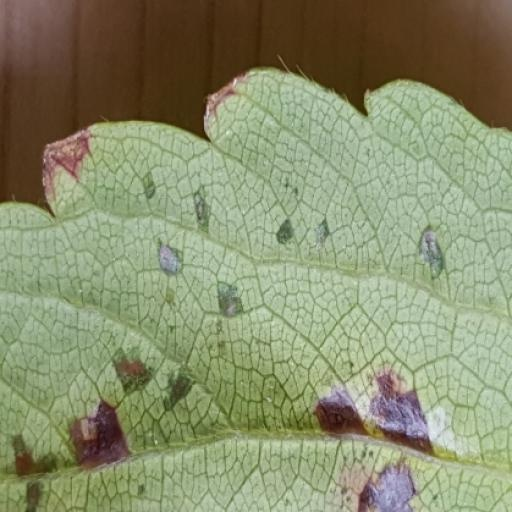Angular Leafspot: (31, 68, 511, 511)
